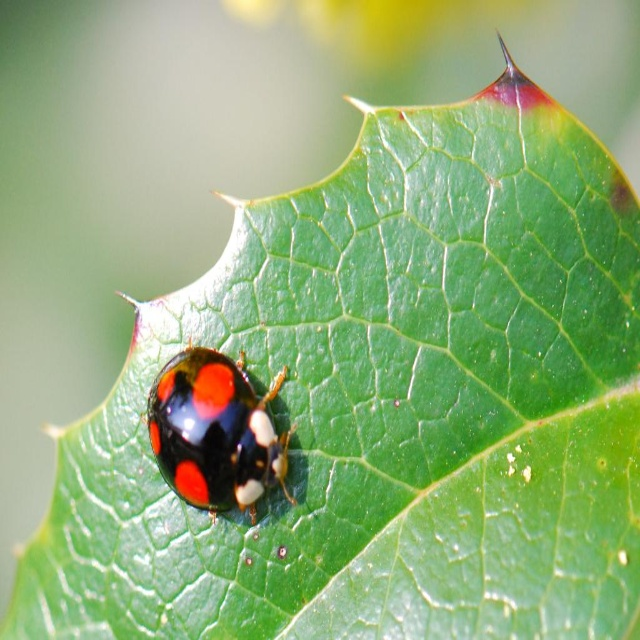Ladybug: (144, 336, 298, 528)
